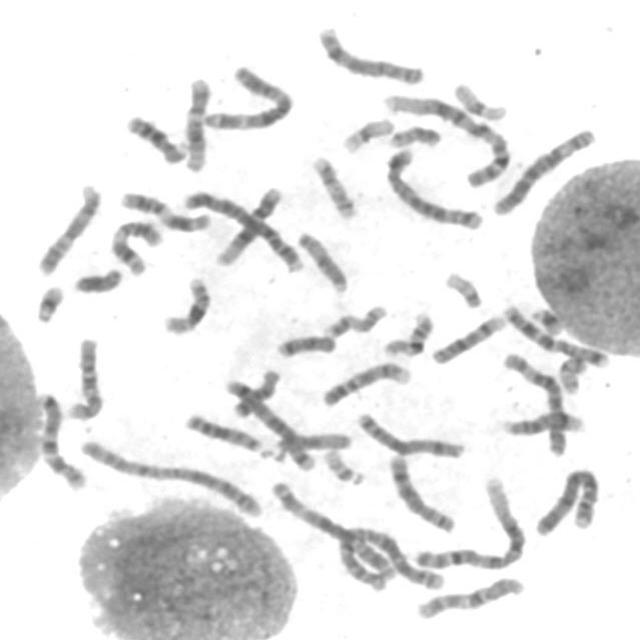A1: (378, 88, 514, 188), (408, 471, 530, 572)
A2: (73, 432, 268, 520), (330, 520, 448, 593)
A3: (266, 474, 400, 586), (198, 59, 298, 132)
B4: (180, 184, 308, 274), (531, 462, 605, 538)
B5: (218, 371, 320, 474), (380, 142, 488, 231)
C10: (412, 572, 526, 622), (61, 331, 106, 422)
C11: (116, 184, 216, 233), (105, 214, 166, 276)
C12: (212, 179, 288, 268), (178, 71, 214, 173)
C6: (488, 121, 600, 217), (499, 346, 571, 458)
C7: (498, 298, 613, 369), (30, 386, 90, 492)
C8: (312, 20, 428, 86), (384, 447, 459, 535)
C9: (32, 178, 104, 276), (316, 355, 414, 409)
D13: (180, 406, 270, 456), (121, 108, 191, 165)
D14: (426, 308, 509, 366), (498, 405, 589, 438)
D15: (292, 226, 352, 295), (260, 425, 356, 461)
E16: (158, 270, 215, 336), (378, 305, 438, 358)
E17: (308, 148, 360, 221), (318, 297, 391, 339)
E18: (228, 364, 284, 419), (272, 328, 341, 360)
F19: (448, 76, 512, 122), (338, 111, 398, 154)
F20: (384, 120, 444, 150), (554, 350, 591, 394)
G21: (29, 278, 67, 325), (526, 300, 568, 337)
G22: (320, 442, 368, 487), (439, 265, 486, 309)
Y: (68, 261, 126, 295)
